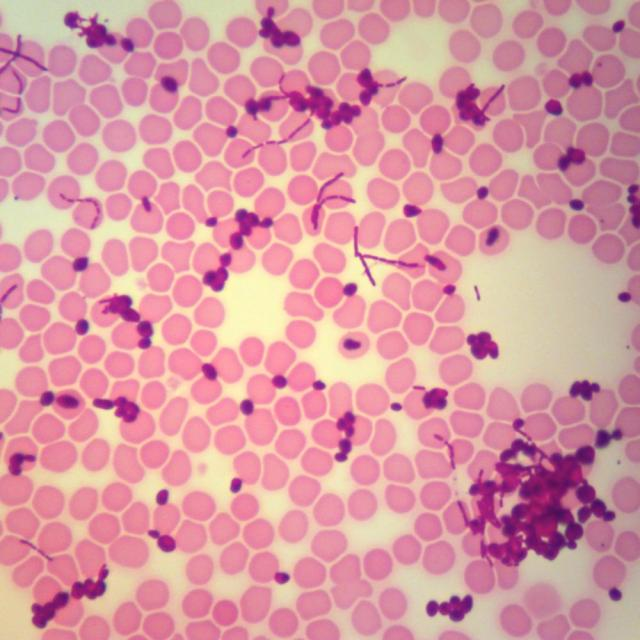Amoeba: (0, 1, 639, 640)
